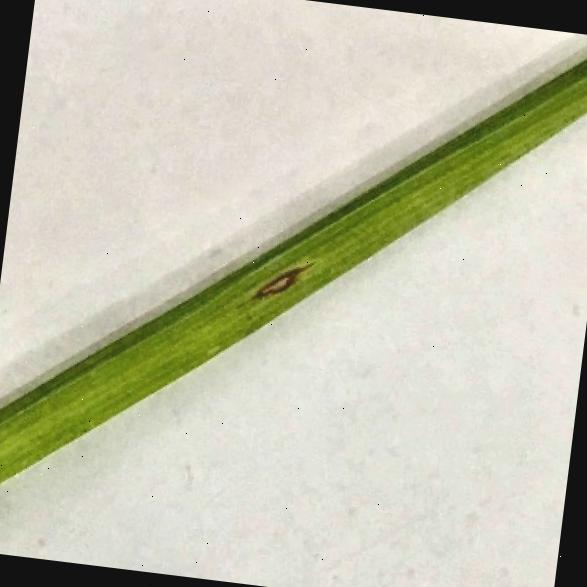Leaf_smut: (231, 228, 324, 316)
